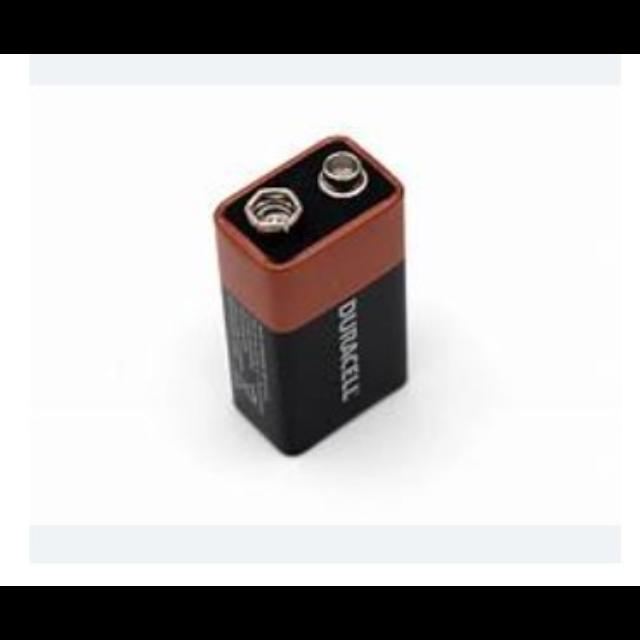Battery: (213, 137, 408, 456)
